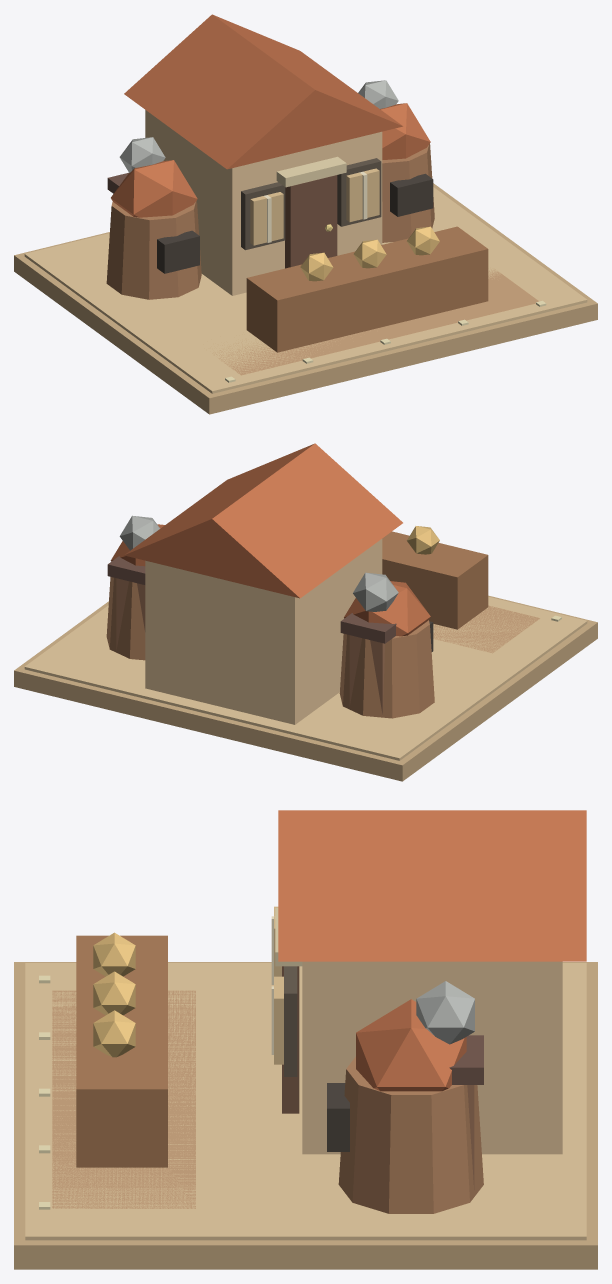
The model's file is bakery-lv2.obj.
3 views of the same model, one above another, from view 1: azimuth 30°, elevation 25°; view 2: azimuth 150°, elevation 25°; view 3: azimuth 270°, elevation 25° (orthographic). The views are drawn at different scales.
Visible parts, largest first — view 1: bakery_4, bakery_1, bakery_17, bakery_0, bakery_3, bakery_11, bakery_16, bakery_5, bakery_12, bakery_9, bakery_8, bakery_18 (+3 smaller); view 2: bakery_3, bakery_4, bakery_1, bakery_0, bakery_11, bakery_17, bakery_16, bakery_15, bakery_13, bakery_14, bakery_18; view 3: bakery_1, bakery_4, bakery_3, bakery_0, bakery_17, bakery_11, bakery_16, bakery_18, bakery_15, bakery_8, bakery_12, bakery_14 (+2 smaller).
Boxes of the visible parts, x1,y1,x2,y2 form: bakery_4: (111, 14, 430, 217); bakery_1: (24, 187, 587, 393); bakery_17: (246, 226, 488, 352); bakery_0: (14, 183, 597, 414); bakery_3: (145, 110, 382, 295); bakery_11: (106, 143, 434, 299); bakery_16: (212, 269, 538, 375); bakery_5: (285, 175, 337, 268); bakery_12: (157, 173, 433, 273); bakery_9: (250, 168, 379, 245); bakery_8: (241, 158, 381, 250); bakery_18: (300, 226, 439, 281); bakery_3: (145, 539, 382, 724); bakery_4: (110, 443, 430, 636); bakery_1: (24, 596, 587, 760); bakery_0: (14, 595, 597, 781); bakery_11: (106, 577, 434, 718); bakery_17: (382, 531, 488, 629); bakery_16: (433, 605, 539, 653); bakery_15: (119, 515, 398, 611); bakery_13: (116, 578, 384, 715); bakery_14: (107, 556, 396, 643); bakery_18: (407, 526, 439, 554); bakery_1: (25, 963, 586, 1240); bakery_4: (278, 810, 586, 1091); bakery_3: (302, 961, 562, 1154); bakery_0: (14, 962, 597, 1269); bakery_17: (76, 935, 167, 1167); bakery_11: (338, 1056, 483, 1213); bakery_16: (52, 990, 195, 1208); bakery_18: (93, 932, 135, 1057); bakery_15: (416, 981, 474, 1044); bakery_8: (284, 966, 297, 1076); bakery_12: (327, 1083, 349, 1151); bakery_14: (449, 1035, 483, 1084).
Size of the model in its own units: 3.5 by 1.83 by 3.05.
